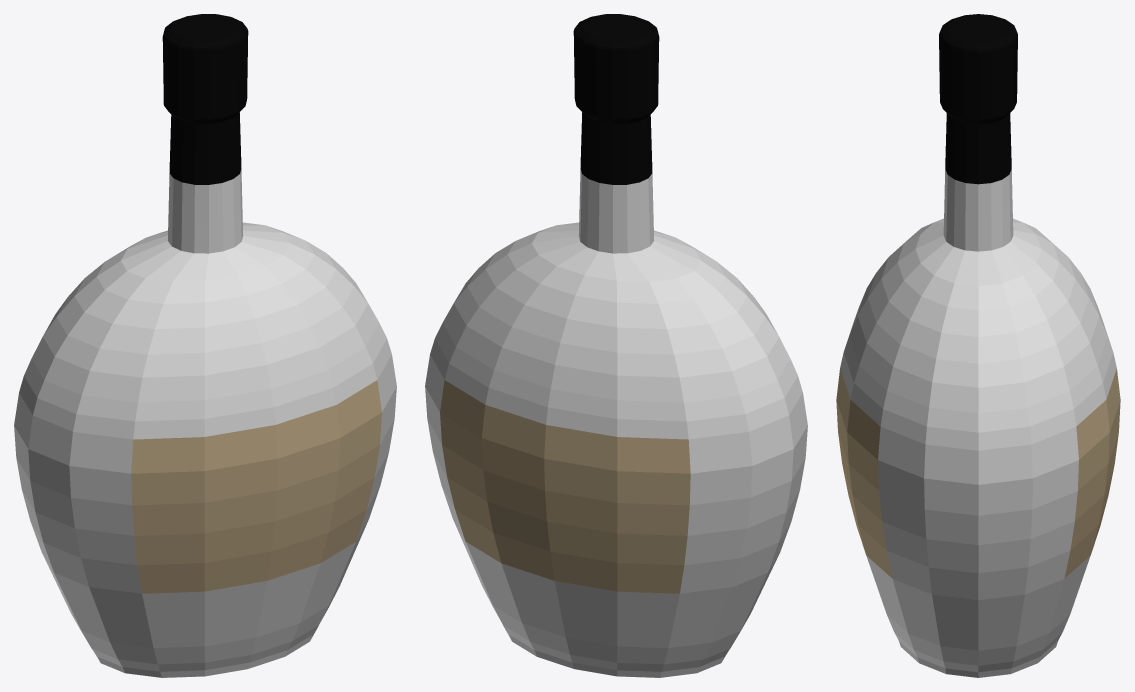
Rendered from Bottle_4_Empty.fbx.
3 views of the same model, side by side, from view 1: azimuth 30°, elevation 25°; view 2: azimuth 150°, elevation 25°; view 3: azimuth 270°, elevation 25° (orthographic).
Parts seen in each view (by area): view 1: Bottle4_Empty; view 2: Bottle4_Empty; view 3: Bottle4_Empty.
Boxes of the visible parts, box(x1,y1,x2,y2) form: Bottle4_Empty: box(14, 14, 396, 677); Bottle4_Empty: box(425, 14, 807, 677); Bottle4_Empty: box(836, 14, 1120, 677).
Size of the model in its own units: 54.24 by 89.4 by 38.35.
